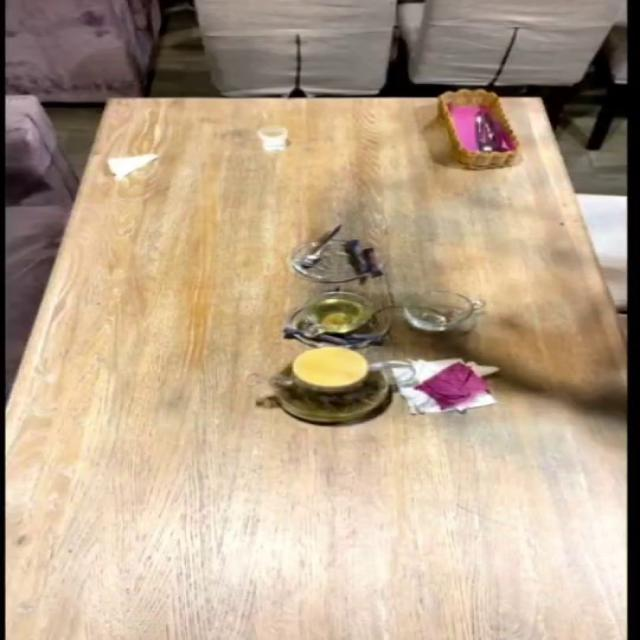tea: (266, 346, 392, 424)
